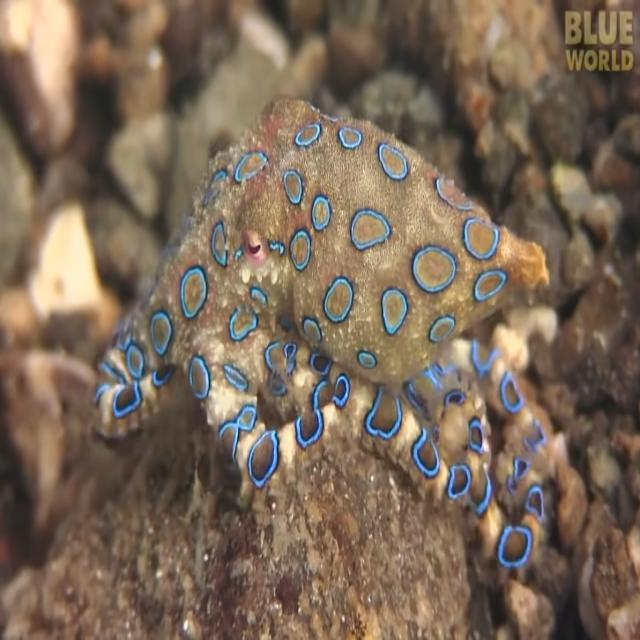blue_ringed_octopus: (90, 94, 550, 576)
